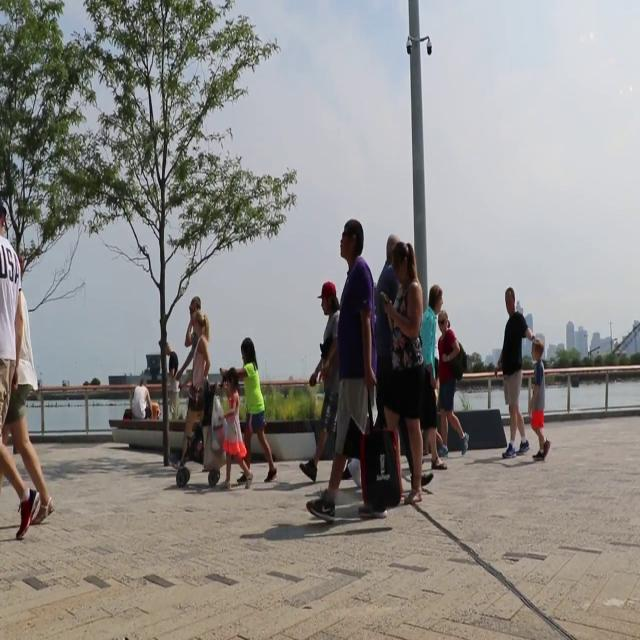normal: (306, 215, 384, 517), (492, 281, 532, 459)
